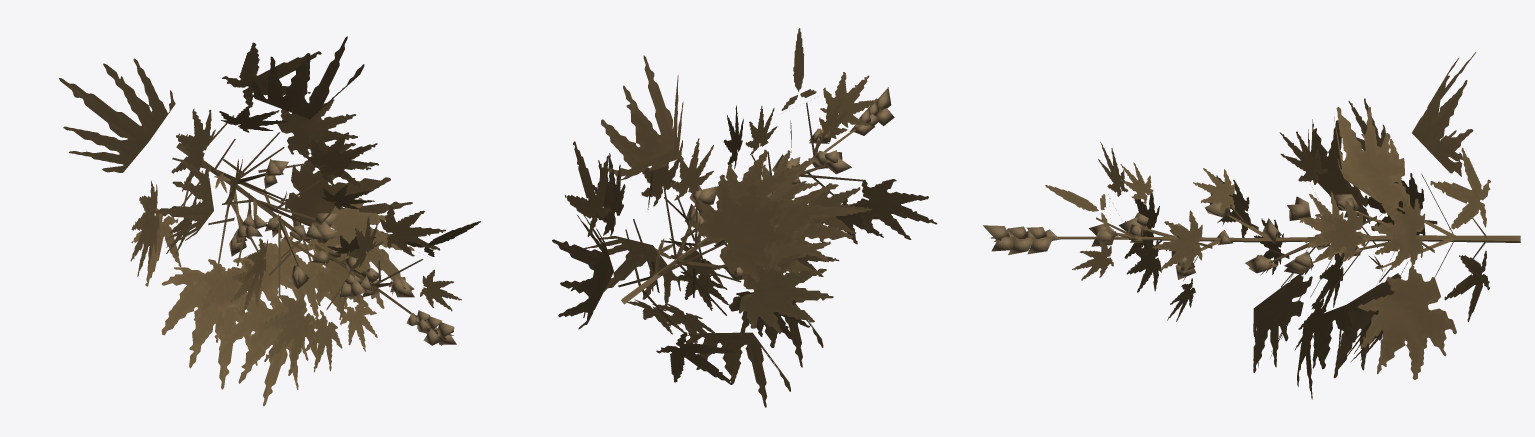
File: p_male_haze_ripe_c3_cards.obj
The picture shows the model from 3 angles, left to right: view 1: azimuth 30°, elevation 25°; view 2: azimuth 150°, elevation 25°; view 3: azimuth 270°, elevation 25°; orthographic projection.
Size of the model in its own units: 1.43 by 1.46 by 1.91.
Materials: 1 (1 with a texture image).
